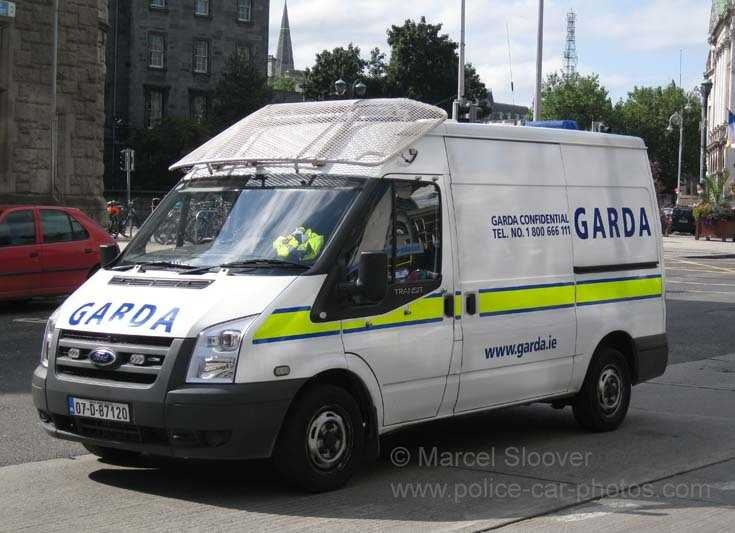Police Van: (46, 73, 691, 476)
